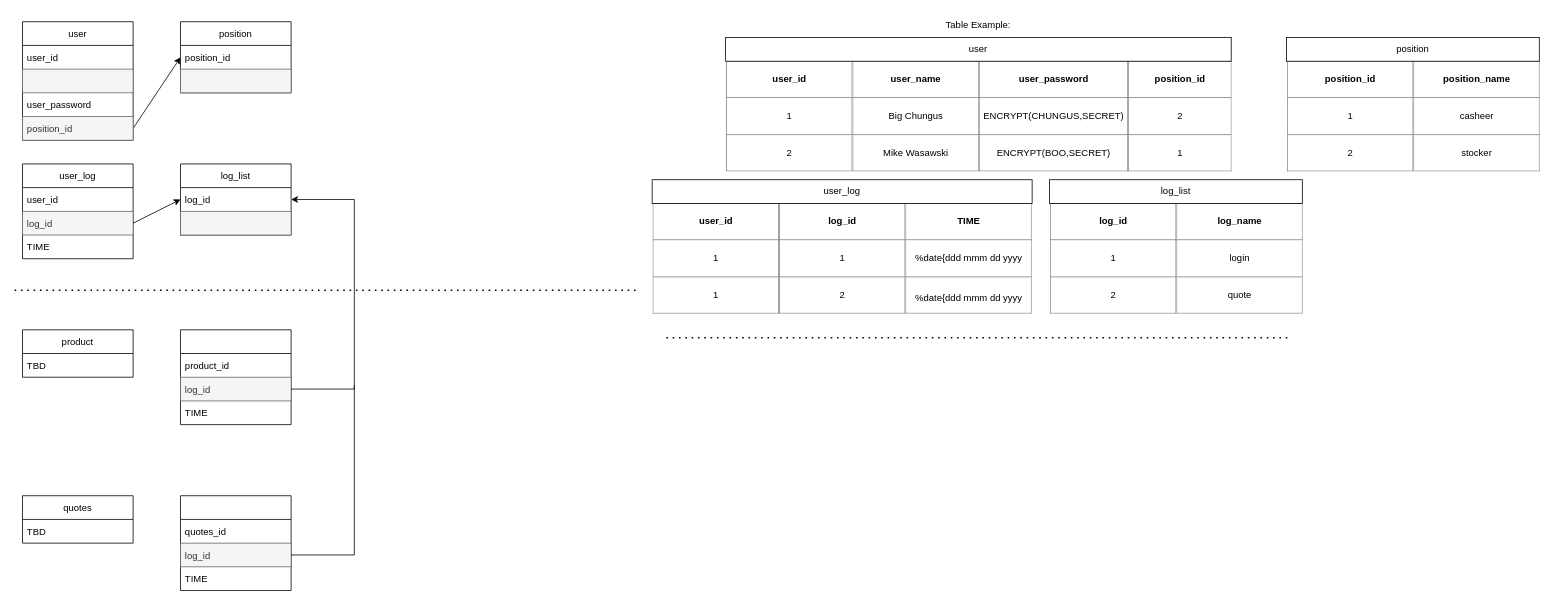
Some shapes in this 1553 by 604 pixel diagram are drawn without their labels. Each missing label, with the box of its shape:
log_name: (180, 211, 291, 235)
position_name: (180, 68, 291, 93)
product_log: (180, 329, 291, 425)
quotes_log: (180, 495, 291, 591)
user_name: (22, 68, 133, 93)
